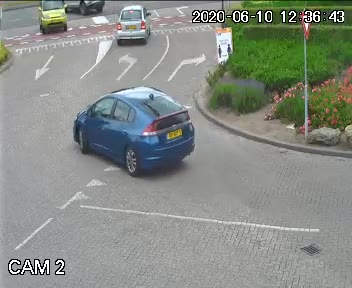car: (65, 78, 195, 176), (116, 4, 156, 47), (30, 0, 70, 36)
